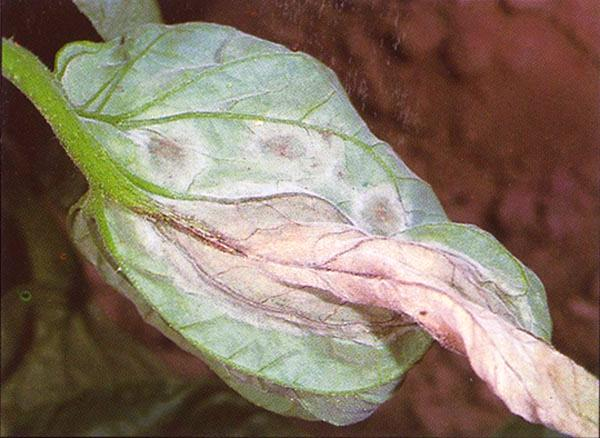Tomato leaf late blight: (47, 25, 591, 422)
